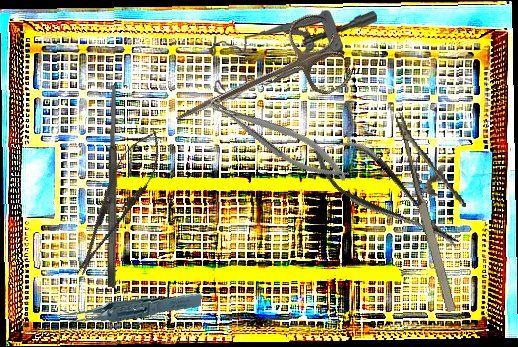Iris Scissors: (160, 8, 356, 159)
Micro Scissor: (297, 118, 472, 269)
Needle Holder: (394, 102, 489, 314), (62, 122, 173, 282), (202, 83, 355, 194)
Spatula Surgical: (105, 85, 121, 288)
Speculum: (208, 1, 378, 108)
Tissue Forceps: (58, 275, 203, 338)
